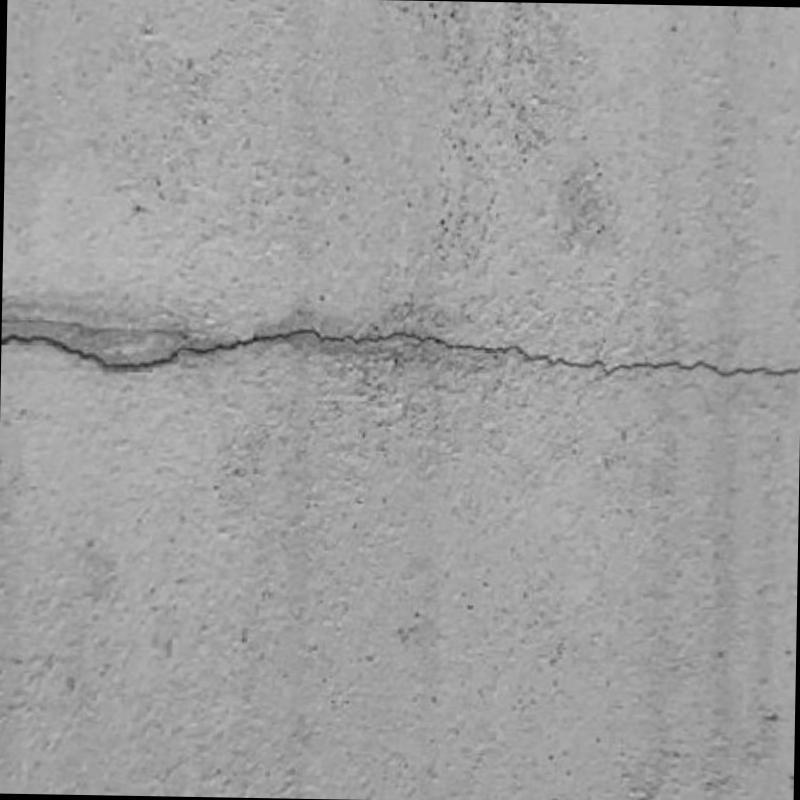pothole: (1, 327, 800, 378)
